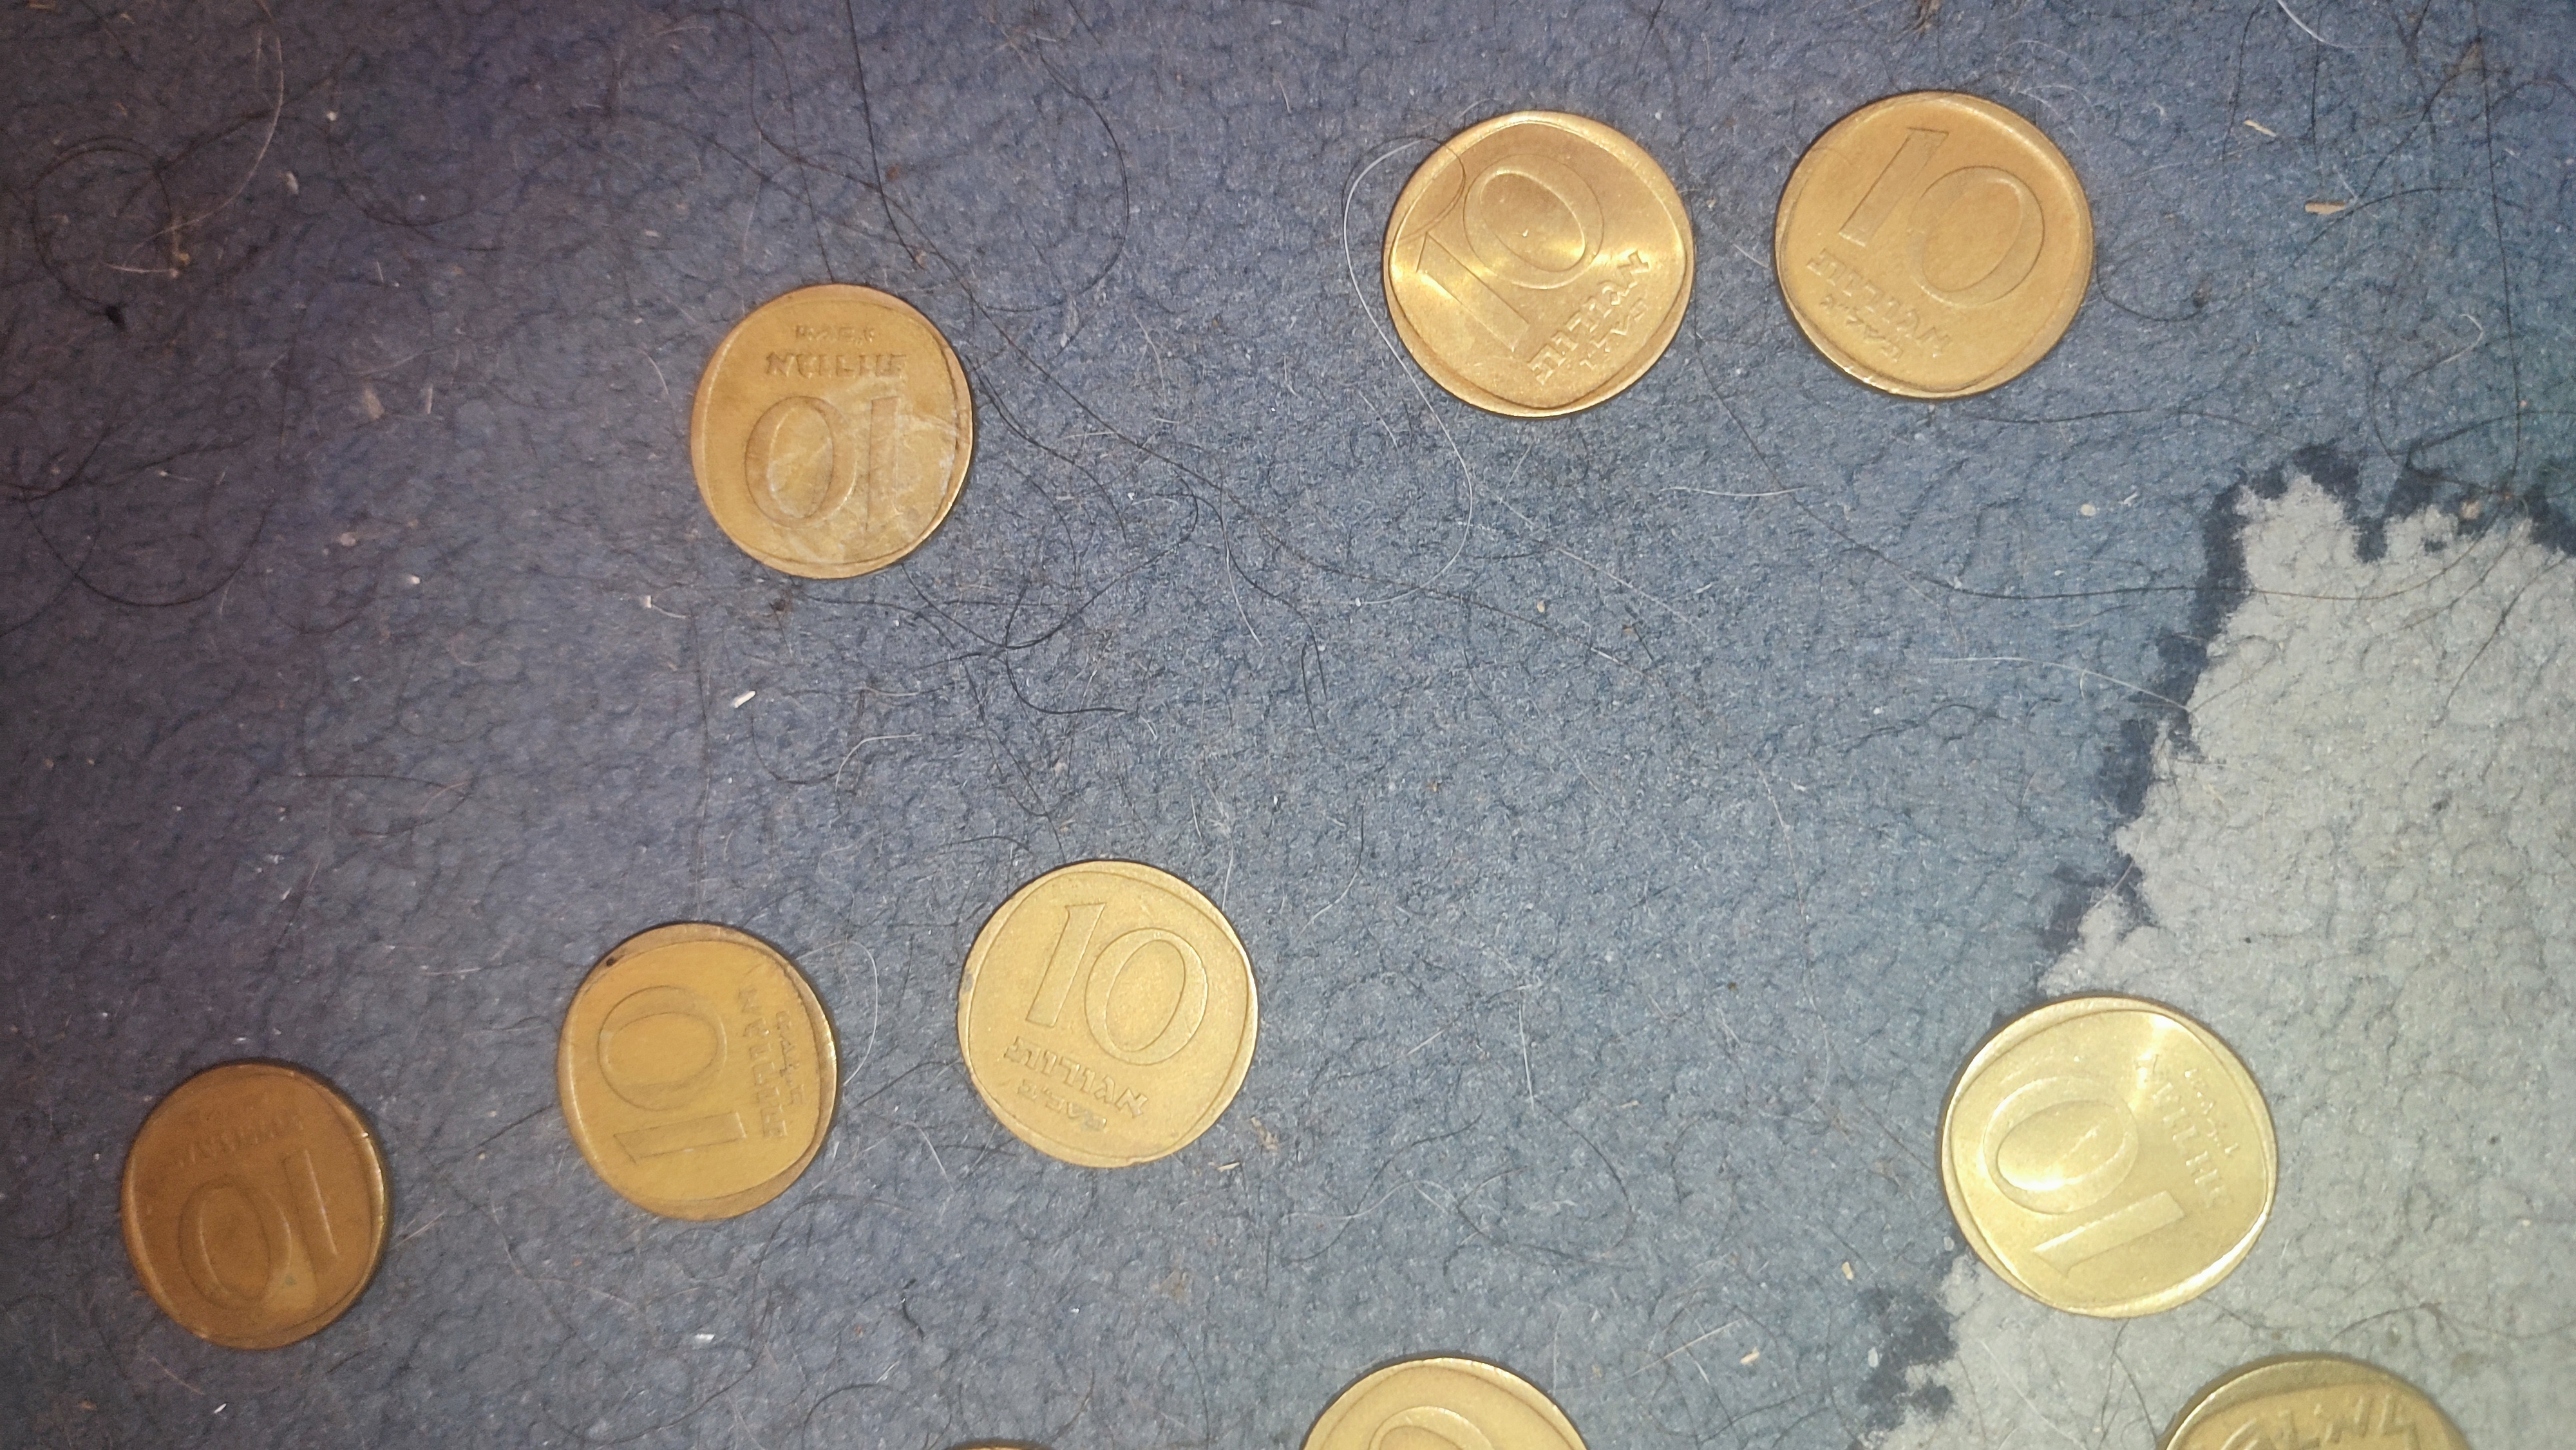10 old agora brown: (1934, 983, 2289, 1319), (1760, 81, 2100, 405), (1369, 104, 1702, 428), (950, 849, 1261, 1178), (681, 278, 989, 589), (548, 912, 846, 1234), (113, 1052, 400, 1363)
